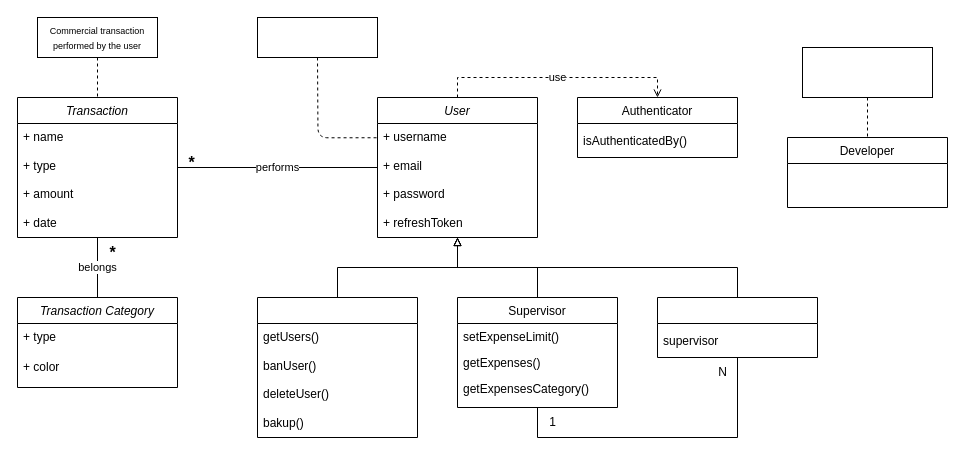
Some shapes in this 965 by 458 pixel diagram are drawn without their labels. The shapes that lost their labels are listed below. From the top down, each one's box as (x1, y1, x2, y2) in pixels, then its label:
(256, 16, 378, 58): Physical person interacting with the application system
(802, 46, 932, 98): Developer of a company who uses EZWalet API as a plug-in to his company software
(656, 296, 818, 358): Supervised
(256, 296, 418, 438): Administrator
